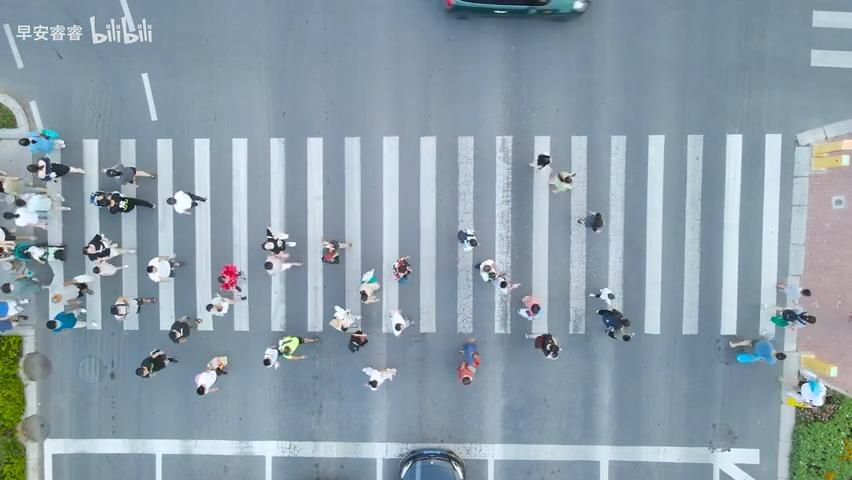Civilian: (262, 334, 319, 369), (50, 272, 111, 301), (79, 231, 137, 261), (26, 156, 85, 183), (90, 190, 155, 214), (46, 305, 91, 337), (16, 191, 74, 215), (135, 347, 179, 378), (194, 355, 228, 395), (18, 128, 66, 156), (735, 339, 786, 365), (595, 307, 633, 341), (5, 275, 51, 303), (772, 304, 816, 333), (102, 163, 155, 186), (110, 295, 156, 321), (2, 206, 54, 229), (90, 259, 128, 287), (166, 190, 207, 215), (263, 250, 302, 276), (260, 226, 296, 254), (25, 242, 73, 263), (146, 255, 181, 283), (168, 315, 202, 343), (586, 277, 620, 305), (205, 292, 246, 315), (328, 304, 361, 332), (361, 365, 397, 390), (527, 145, 558, 174), (320, 236, 352, 263), (782, 278, 816, 303), (217, 263, 245, 293), (471, 259, 505, 282), (358, 268, 380, 303), (534, 332, 561, 360), (387, 309, 415, 336), (458, 336, 480, 366), (548, 170, 576, 193), (516, 295, 541, 320), (493, 273, 518, 298), (577, 210, 605, 232), (456, 360, 476, 385), (392, 255, 411, 281), (348, 329, 368, 352), (457, 228, 478, 249)
